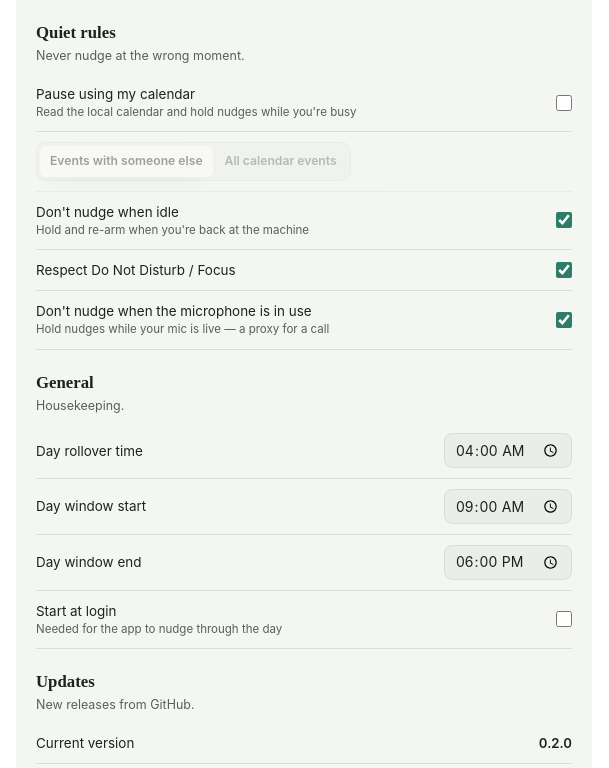
Settings › re-enables the sub-choice as soon as the toggle is switched back on
The width and height of the screenshot is (609, 768).
Expected: the button "All calendar events" is disabled, 215,146 -> 347,176
# WHEN the user switches "Pause using my calendar" back on
Step 1. Click the checkbox labelled "Pause using my calendar" → {"x": 564, "y": 103}, box 556,95 -> 572,111
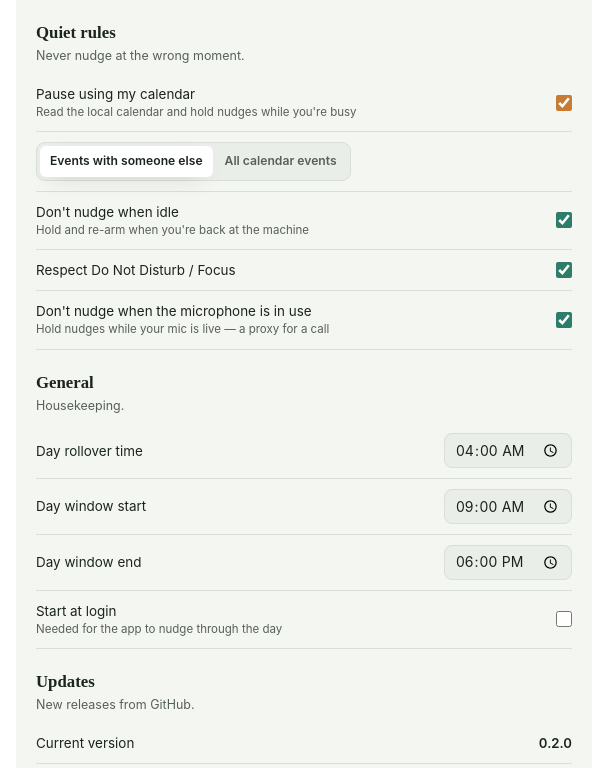
Now the button "All calendar events" is enabled, box 215,146 -> 347,176
